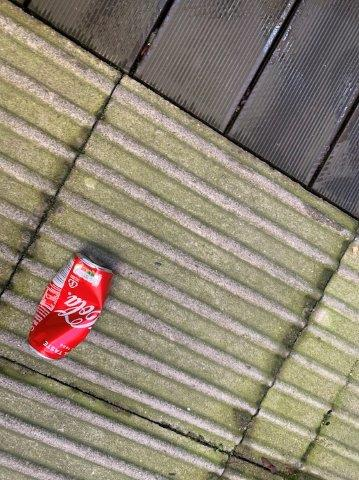kaleng: (29, 254, 114, 359)
